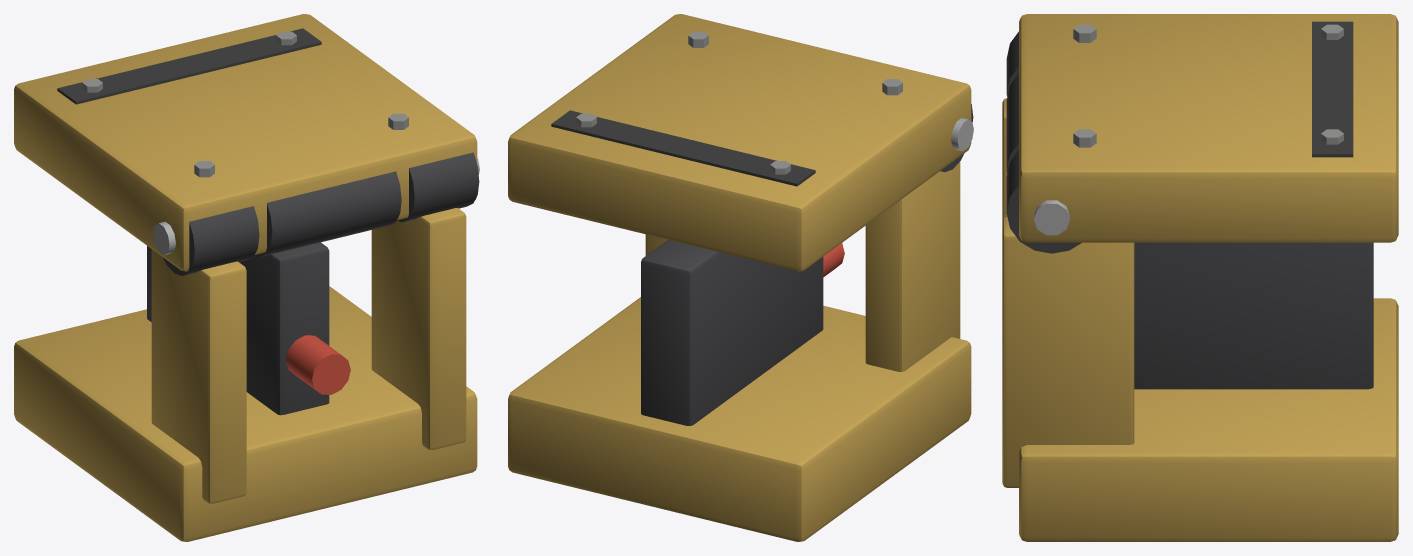
Rendered from hinge.glb.
3 views of the same model, side by side, from view 1: azimuth 30°, elevation 25°; view 2: azimuth 150°, elevation 25°; view 3: azimuth 270°, elevation 25° (orthographic). The views are drawn at different scales.
Visible parts, largest first — view 1: Part, Top; view 2: Part, Top; view 3: Part, Top.
Part boxes in pixels (<box>): Part: <box>14,152,479,541</box>; Top: <box>14,14,477,271</box>; Part: <box>508,104,973,541</box>; Top: <box>508,14,971,271</box>; Part: <box>1002,31,1398,541</box>; Top: <box>1006,14,1398,242</box>.
Size of the model in its own units: 0.48 by 0.526 by 0.48.
